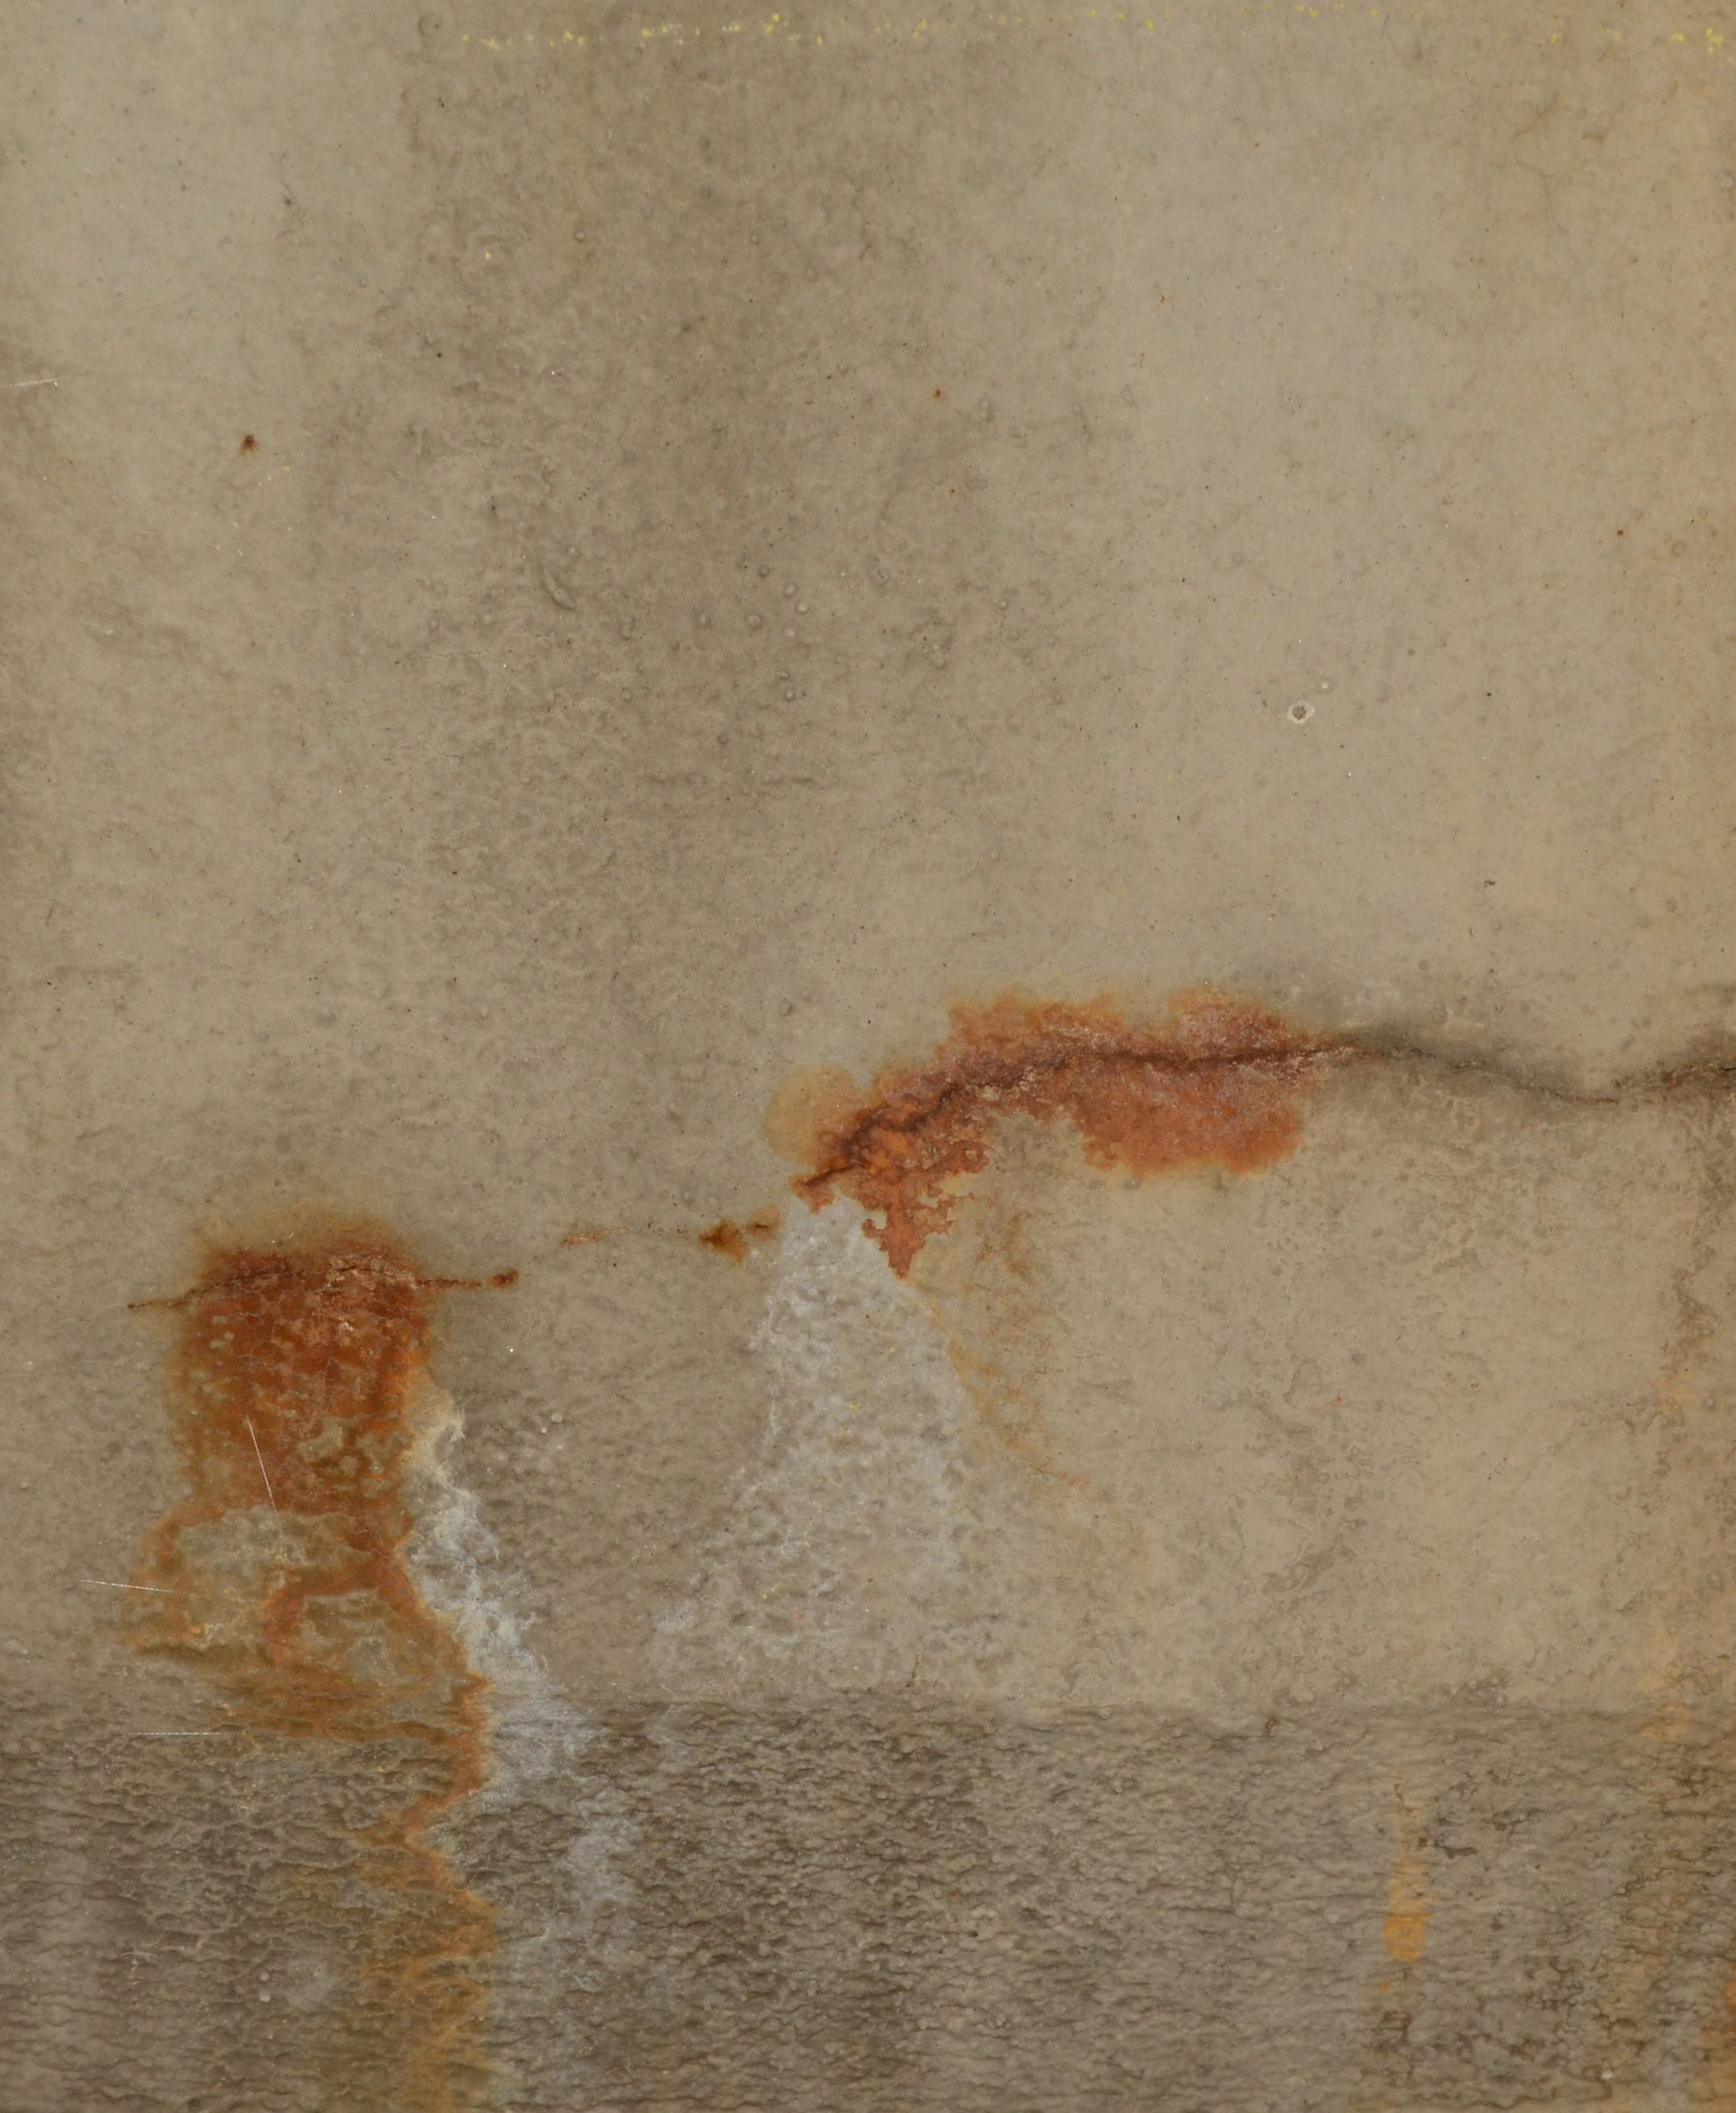Corrosion: (125, 1218, 506, 2113), (695, 983, 1315, 1279)
Crack: (121, 1032, 1736, 1313)
